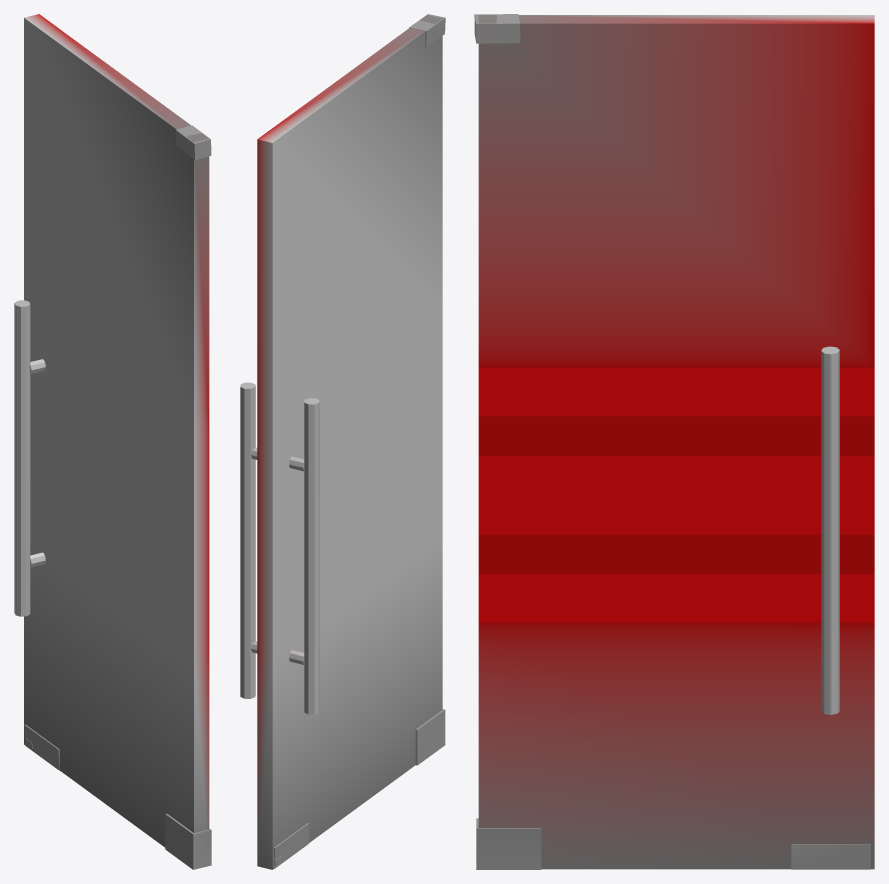
Rendered from SM_GDL123.001.fbx.
3 renders of one model, left to right at view 1: azimuth 30°, elevation 25°; view 2: azimuth 150°, elevation 25°; view 3: azimuth 270°, elevation 25°, orthographic. The views are drawn at different scales.
Visible parts, largest first — view 1: GDL123.001; view 2: GDL123.001; view 3: GDL123.001.
Part boxes in pixels (x1=…): GDL123.001: x1=14, y1=14, x2=211, y2=869; GDL123.001: x1=240, y1=14, x2=445, y2=869; GDL123.001: x1=474, y1=14, x2=874, y2=869.
Bounding box in the file's own units: 29.99 × 269 × 115.
